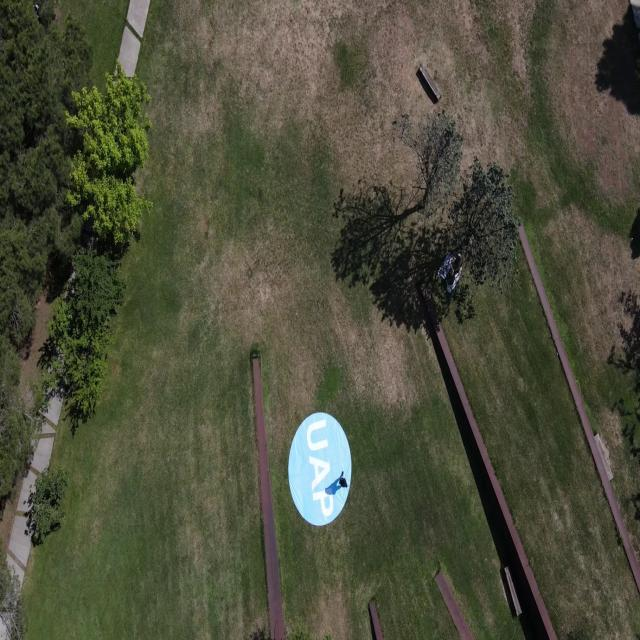p3rson: (338, 470, 348, 488)
